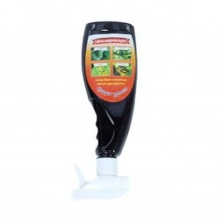insecticide: (67, 18, 141, 204)
